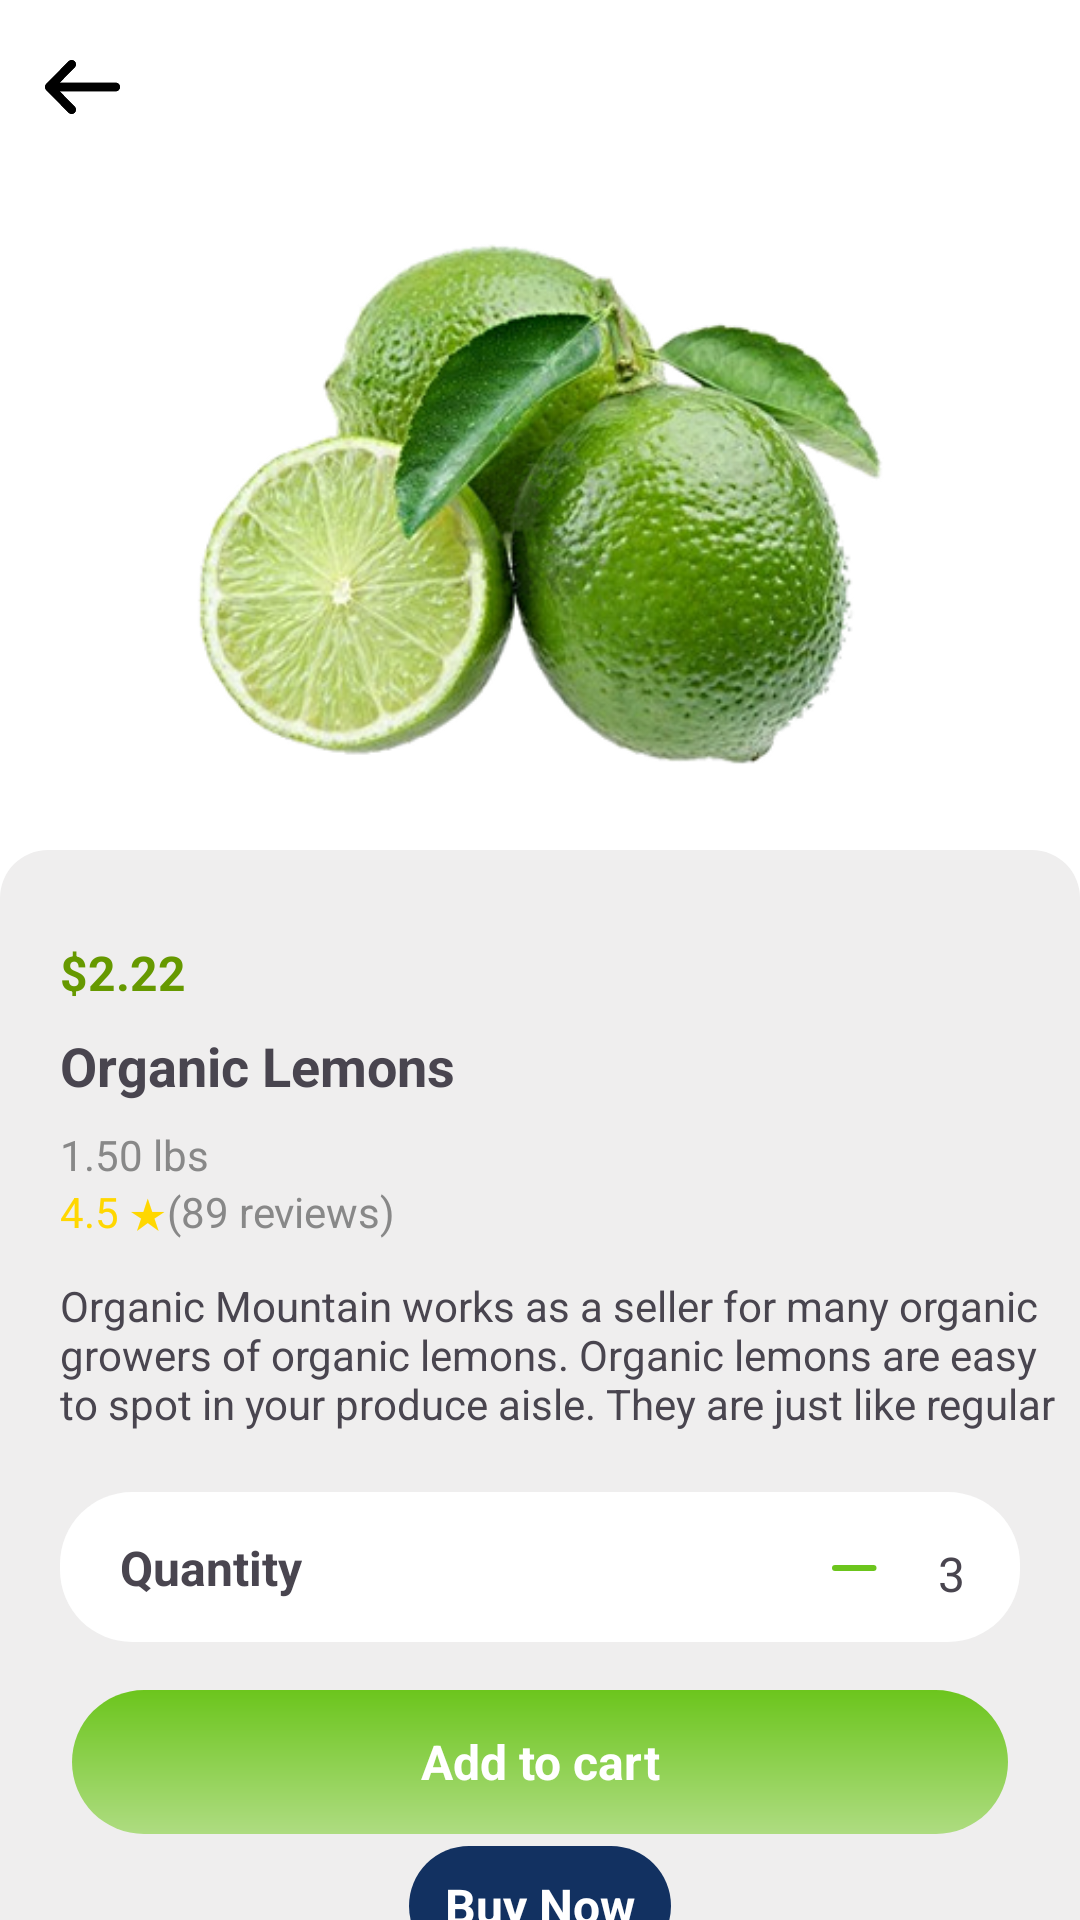

Locate icon controls on the screen. Image size 1080*1920, boxes as (x1, y1, x2, y2).
backarrow: (45, 60, 120, 114)
